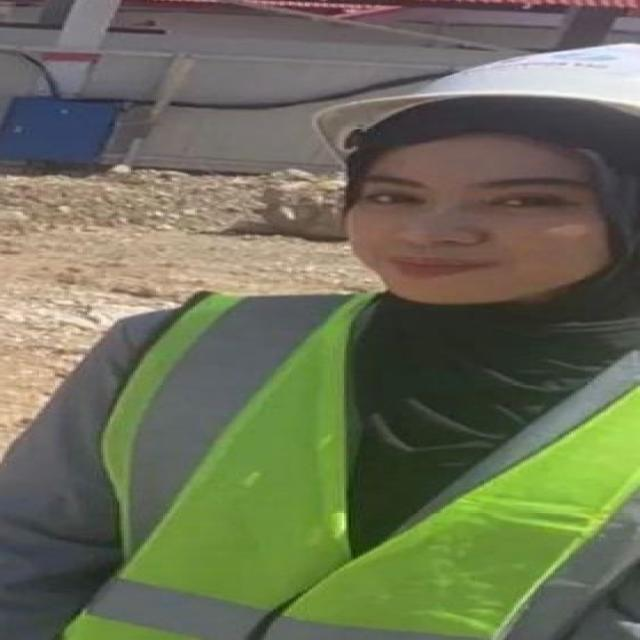safetyhelmet: (310, 34, 640, 221)
